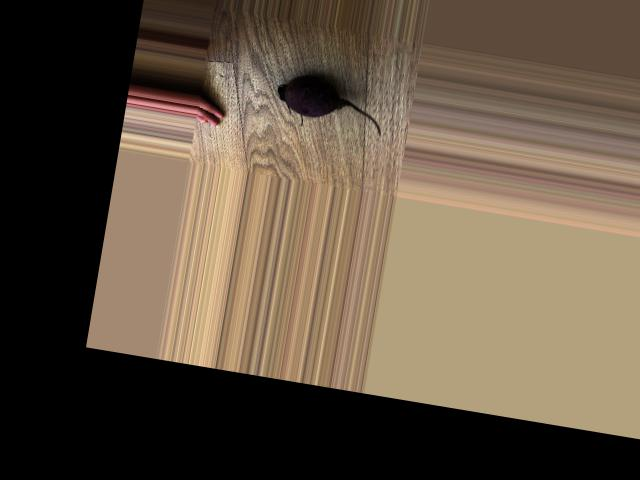beet: (273, 71, 388, 138)
